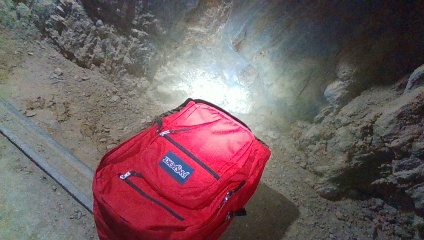backpack: (89, 94, 274, 238)
